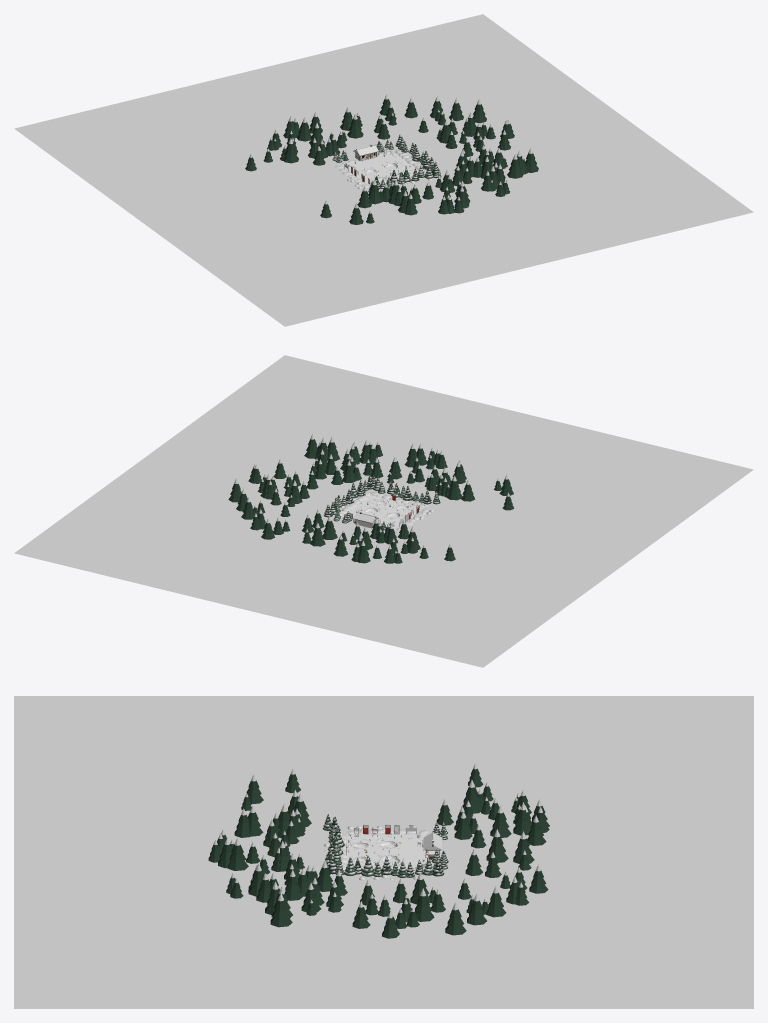
Rendered from onsen.glb.
The picture shows the model from 3 angles, top to bottom: view 1: azimuth 30°, elevation 25°; view 2: azimuth 150°, elevation 25°; view 3: azimuth 270°, elevation 25°; orthographic projection. The views are drawn at different scales.
Visible parts, largest first — view 1: S_tile_snow, S_tile_cedar, S_tile_flagstone; view 2: S_tile_snow, S_tile_cedar, S_tile_flagstone; view 3: S_tile_snow, S_tile_cedar, S_tile_flagstone, S_tile_rock.
Boxes of the visible parts, x1=… form: S_tile_snow: x1=14, y1=14, x2=753, y2=326; S_tile_cedar: x1=245, y1=99, x2=538, y2=224; S_tile_flagstone: x1=342, y1=152, x2=418, y2=186; S_tile_snow: x1=14, y1=355, x2=753, y2=667; S_tile_cedar: x1=228, y1=439, x2=513, y2=563; S_tile_flagstone: x1=342, y1=495, x2=423, y2=529; S_tile_snow: x1=14, y1=696, x2=753, y2=1008; S_tile_cedar: x1=208, y1=768, x2=549, y2=938; S_tile_flagstone: x1=347, y1=834, x2=426, y2=869; S_tile_rock: x1=324, y1=829, x2=424, y2=880.
Bounding box in the file's own units: 260 × 13.88 × 260.
